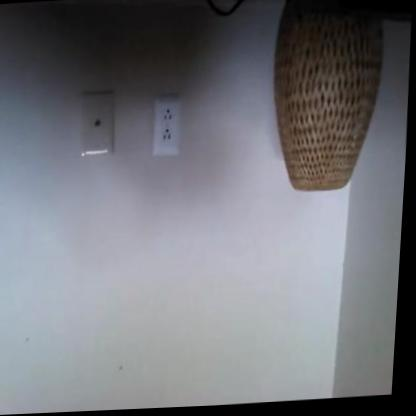OUTLET: (151, 98, 182, 155)
